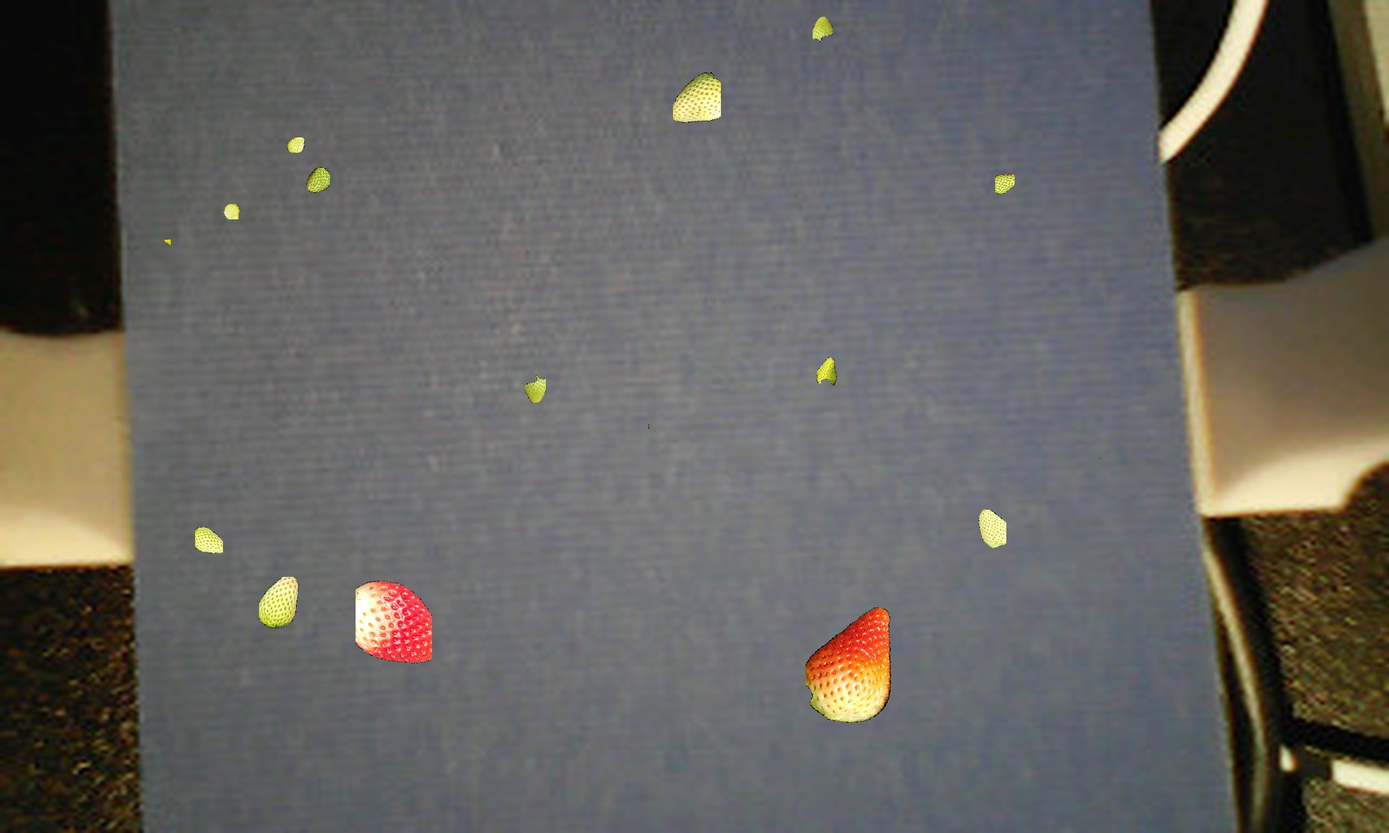strawberry: (799, 584, 943, 746), (348, 585, 449, 675), (249, 568, 320, 642), (668, 70, 736, 126), (191, 527, 235, 559), (980, 504, 1008, 550), (809, 3, 834, 48), (810, 354, 842, 388), (521, 373, 558, 402), (306, 171, 341, 197), (994, 170, 1024, 199), (222, 203, 258, 215)
